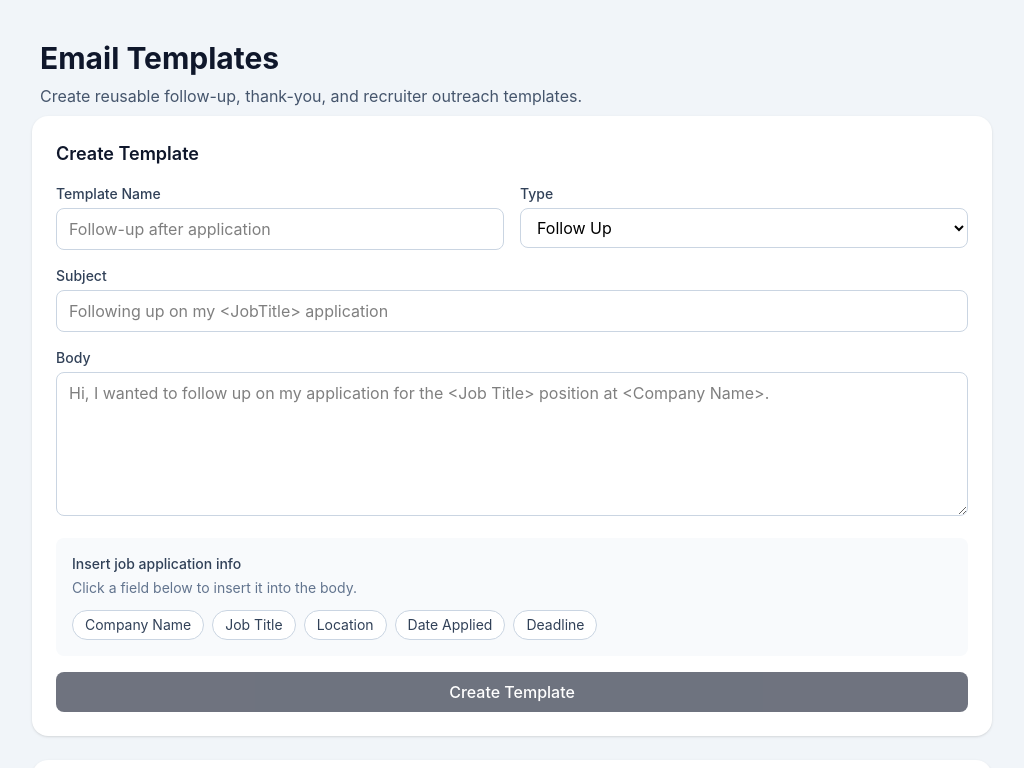
Test: EmailTemplatesPage › inserts placeholder into the focused body field
The image size is (1024, 768).
Click the text box labelled "Body".
click(512, 444)  # box [56,372,968,516]
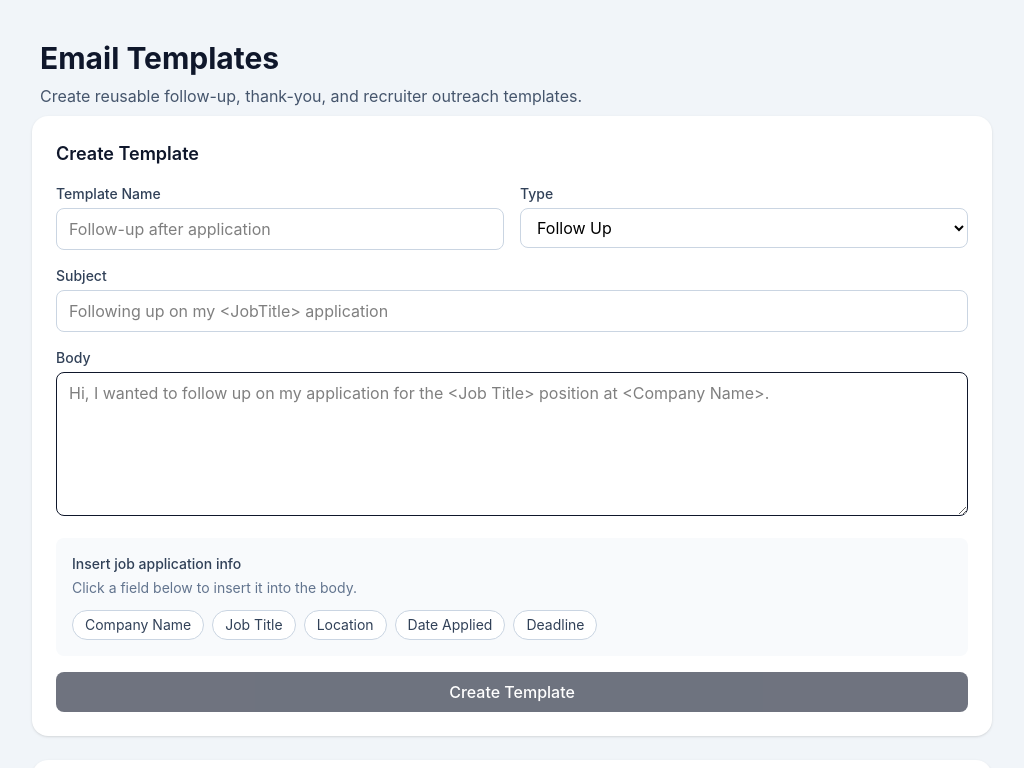
Click the button "Company Name".
click(138, 625)  # box [72,610,204,640]
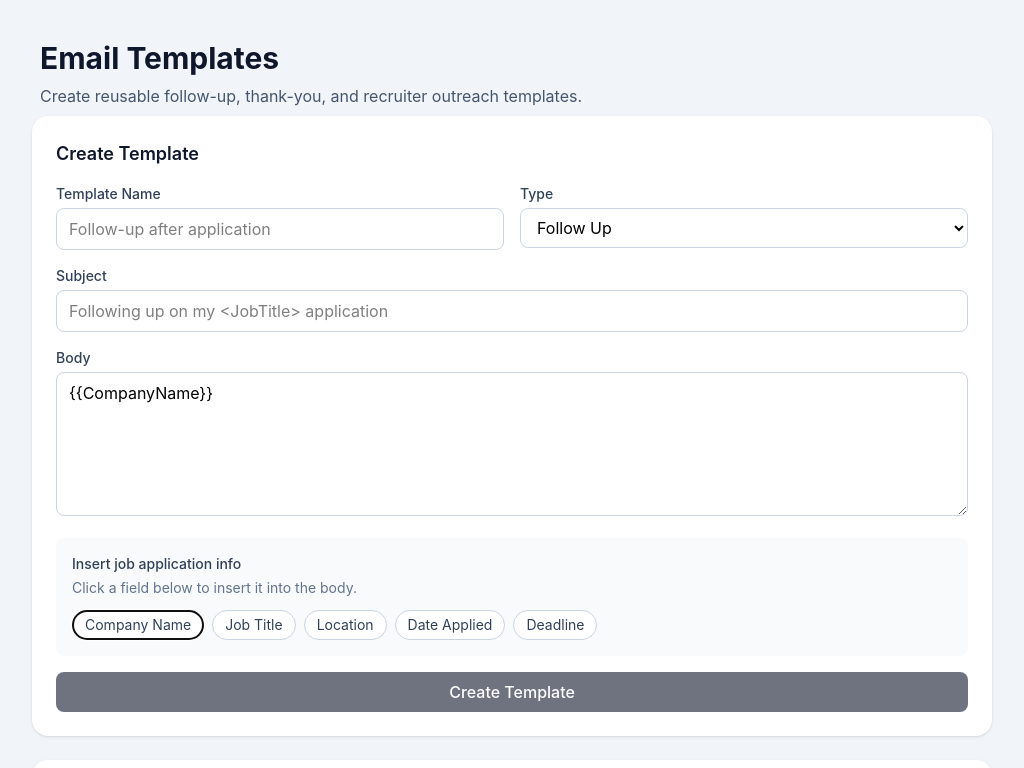
Expected: the text box labelled "Body" holds "{{CompanyName}}", [56,372,968,516]
